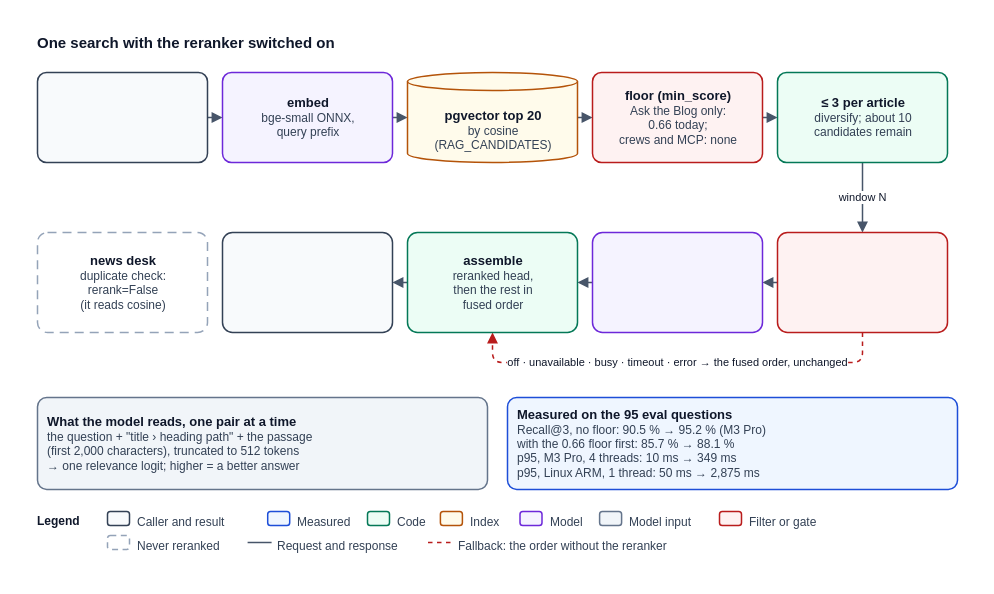
Some shapes in this 994 by 594 pixel diagram are drawn without their labels. Each missing label, with the centre of its shape:
"cross-encoder int8, ONNX Runtime; the first N candidates" goes at pixel 677 282.
"question Ask the Blog, the crews' vector_search, MCP search" goes at pixel 122 117.
"RerankGate switched on? model loaded? below the limit?" goes at pixel 862 282.
"top k (k = 6) Hit.score = cosine → grader → answer with citations" goes at pixel 307 282.
